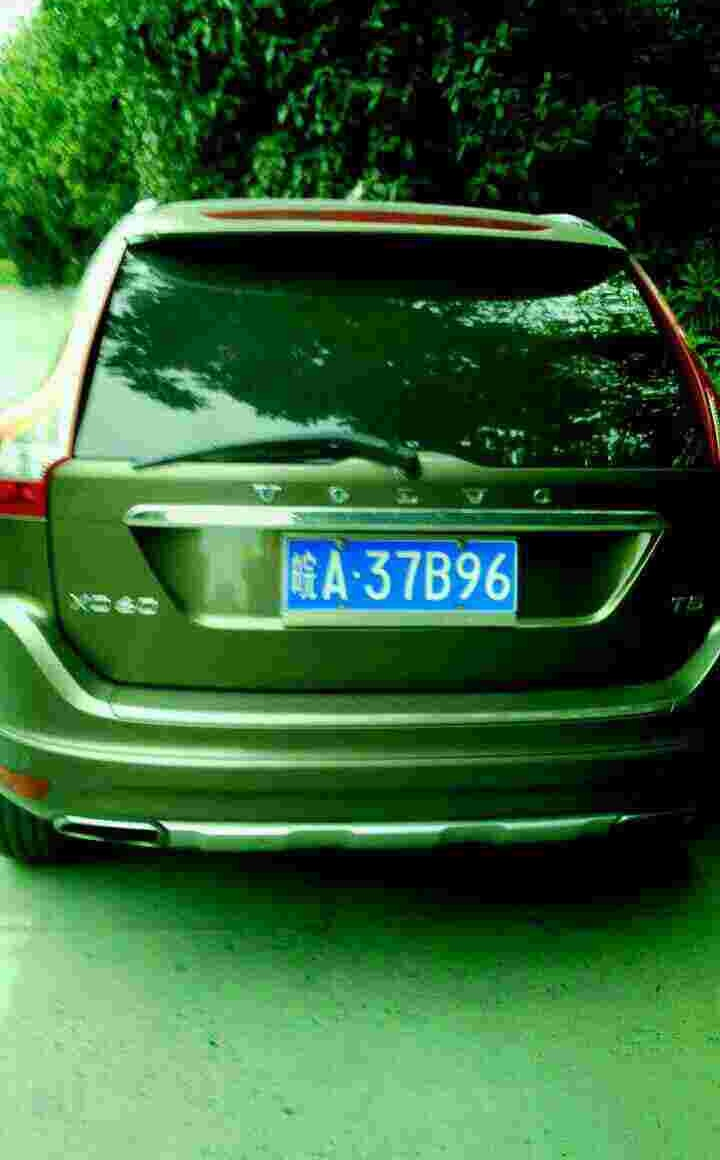license_plate: (292, 537, 522, 614)
